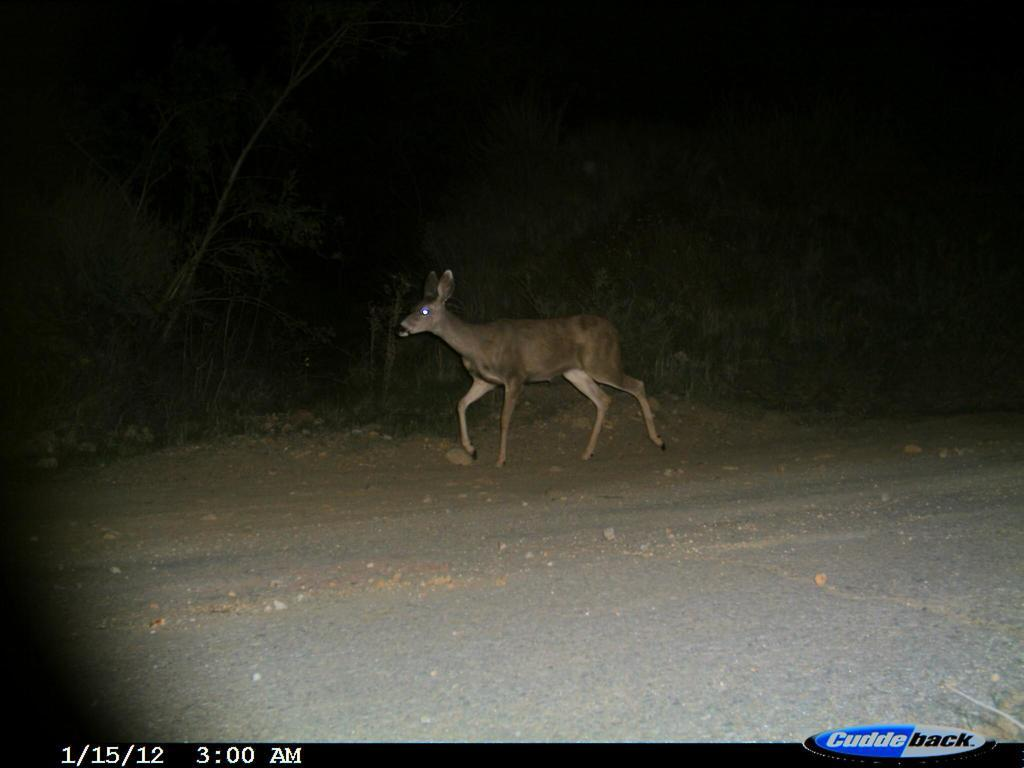deer: (396, 265, 673, 473)
